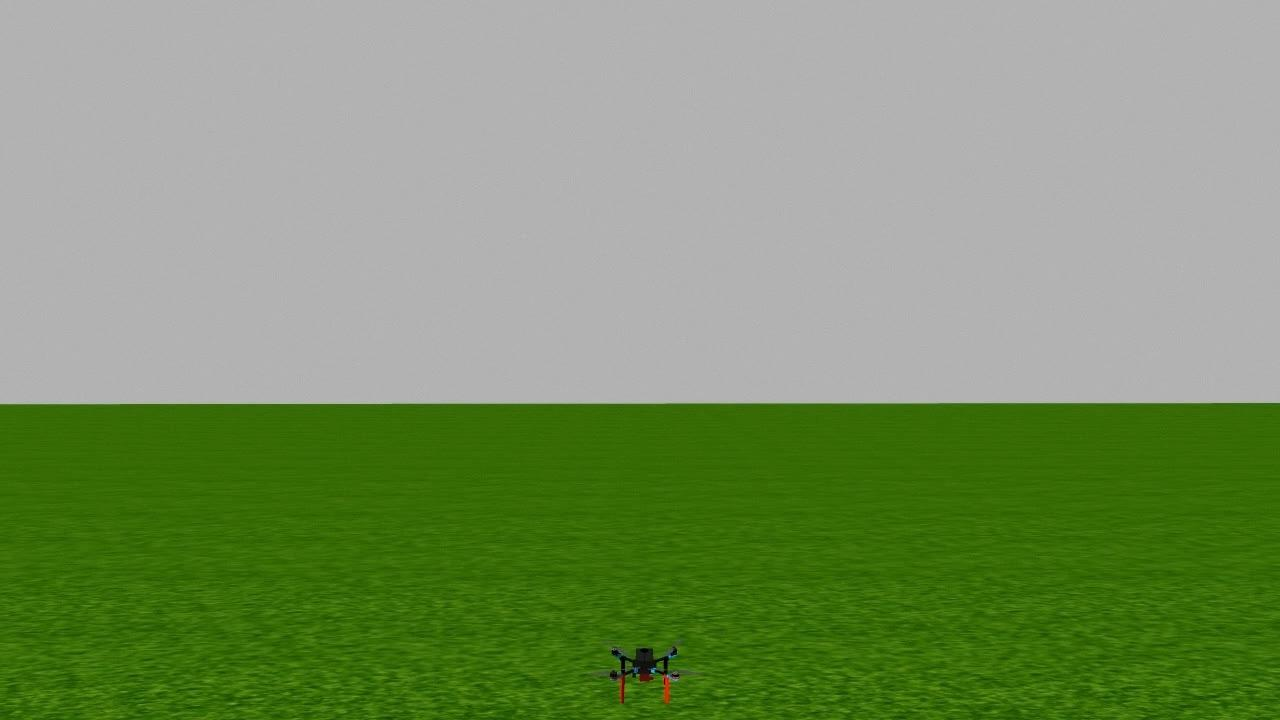UAV: (597, 634, 692, 716)
